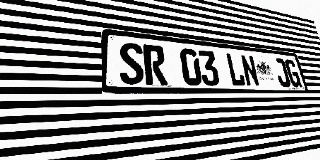0: (179, 48, 203, 86)
3: (198, 50, 220, 86)
G: (284, 59, 302, 87)
J: (273, 58, 291, 87)
L: (225, 53, 246, 86)
N: (240, 54, 260, 87)
R: (143, 44, 168, 85)
S: (119, 42, 145, 85)
